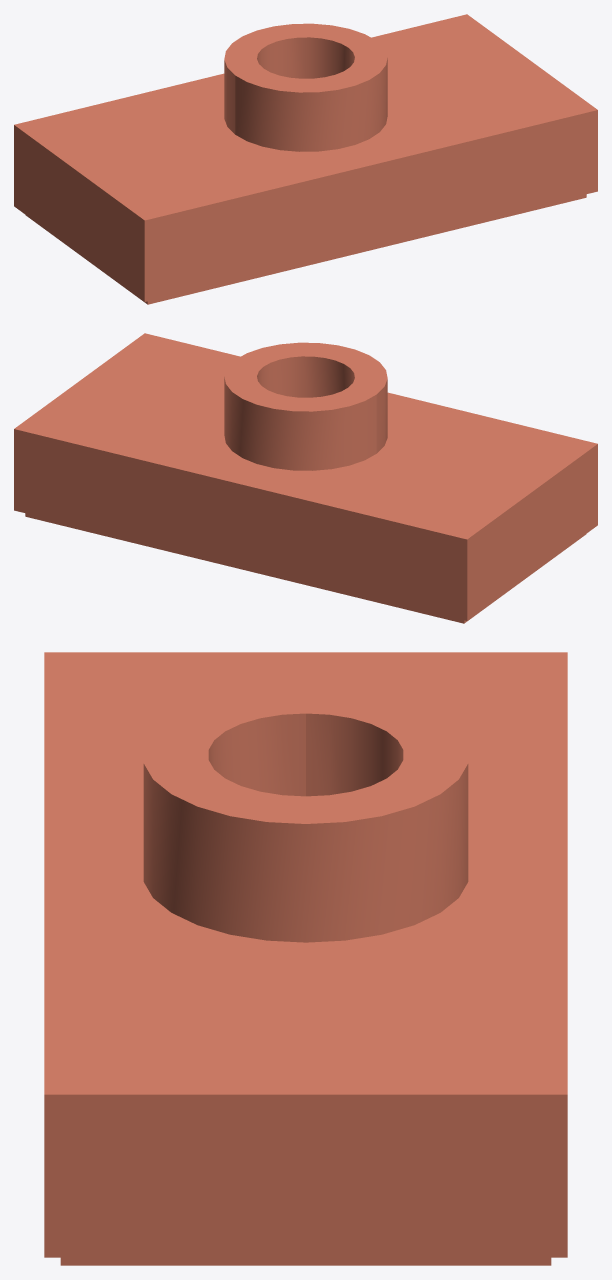
3 views of the same model, one above another, from view 1: azimuth 30°, elevation 25°; view 2: azimuth 150°, elevation 25°; view 3: azimuth 270°, elevation 25° (orthographic). The views are drawn at different scales.
Visible parts, largest first — view 1: [pivoted]; view 2: [pivoted]; view 3: [pivoted].
Part boxes in pixels (x1,y1,x2,y2): [pivoted]: (14, 14, 597, 304); [pivoted]: (14, 333, 597, 623); [pivoted]: (44, 652, 567, 1265).
Bounding box in the file's own units: 1.6 × 0.5 × 0.8.
